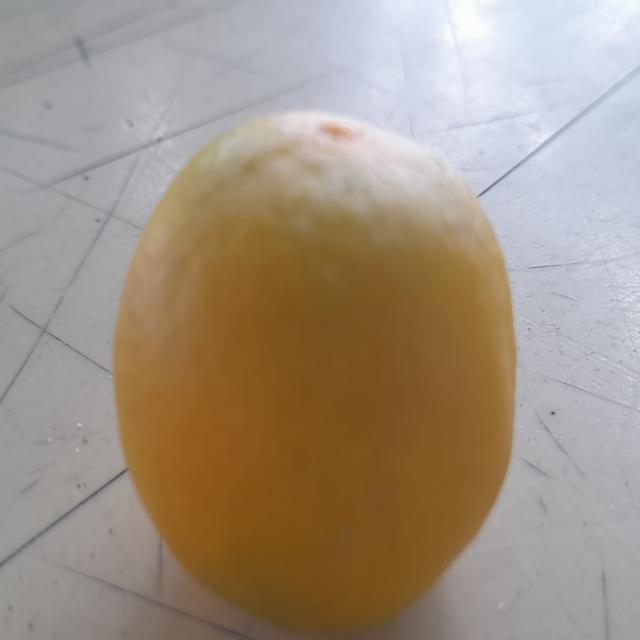greening: (88, 70, 533, 640)
